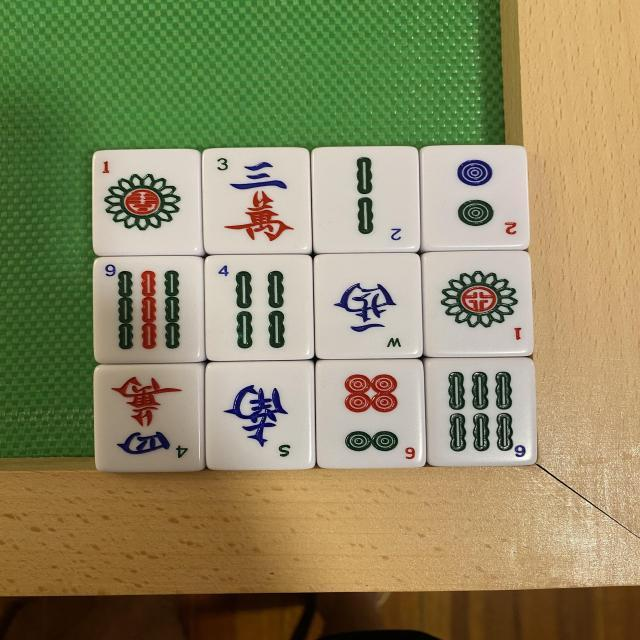hws: (203, 362, 310, 471)
hww: (316, 256, 418, 356)
sb2: (312, 148, 420, 254), (202, 253, 310, 359)
sb6: (423, 356, 531, 466)
sb9: (94, 255, 204, 362)
sc3: (204, 150, 313, 256)
sc4: (95, 365, 203, 473)
sd1: (93, 146, 202, 254), (422, 250, 530, 357)
sd2: (426, 146, 521, 250)
sd6: (318, 359, 428, 469)
